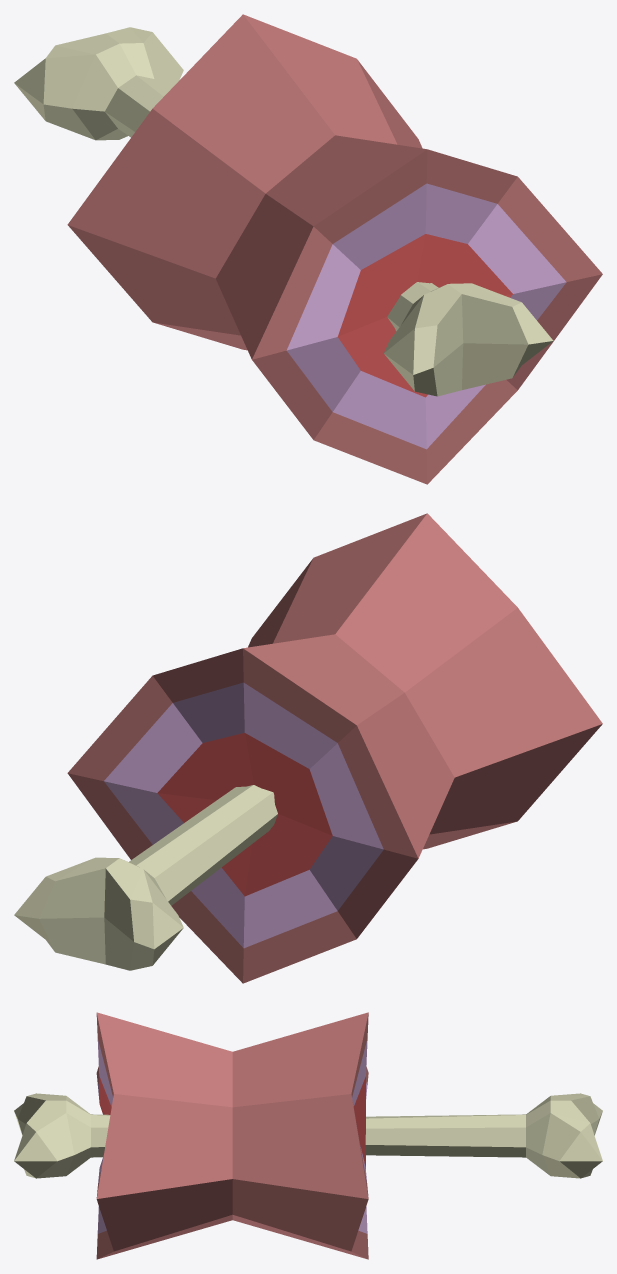
File: Mystery Meat.fbx
3 renders of one model, top to bottom at view 1: azimuth 30°, elevation 25°; view 2: azimuth 150°, elevation 25°; view 3: azimuth 270°, elevation 25°, orthographic. The views are drawn at different scales.
Visible parts, largest first — view 1: Mystery Meat; view 2: Mystery Meat; view 3: Mystery Meat.
Boxes of the visible parts, bbox=[...] form: Mystery Meat: bbox=[14, 14, 602, 484]; Mystery Meat: bbox=[14, 513, 602, 983]; Mystery Meat: bbox=[14, 1012, 602, 1259].
Size of the model in its own units: 14.11 by 12.88 by 27.79.
